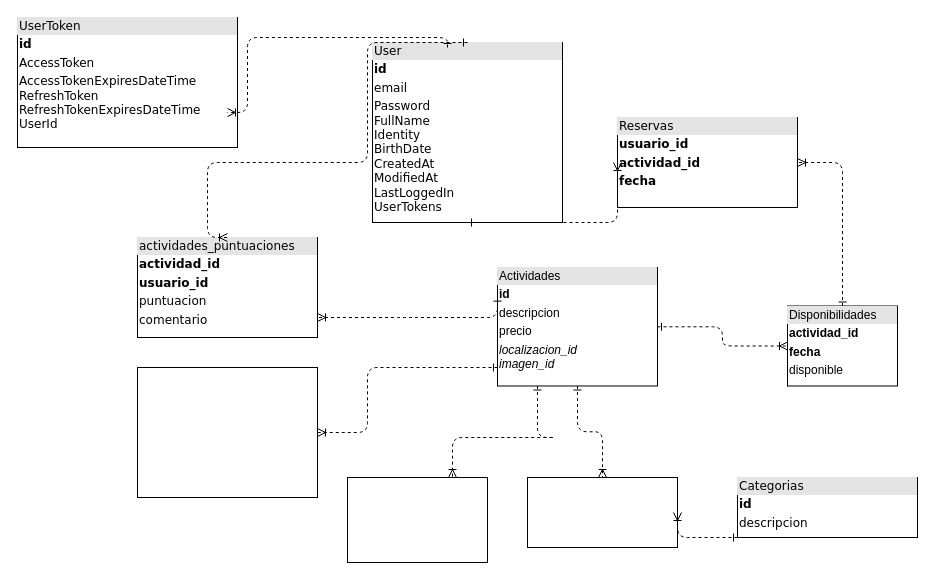
Some shapes in this 935 by 580 pixel diagram are drawn without their labels. Here are the shapes that lost their labels. From the top down, the centre of each, then its label:
At point 227,432: "Localizacion id calle numero ciudad codigo_postal".
At point 417,519: "Imagenes id recurso actividad_id".
At point 602,512: "Actividades_categorias actividad_id categoria_id".
